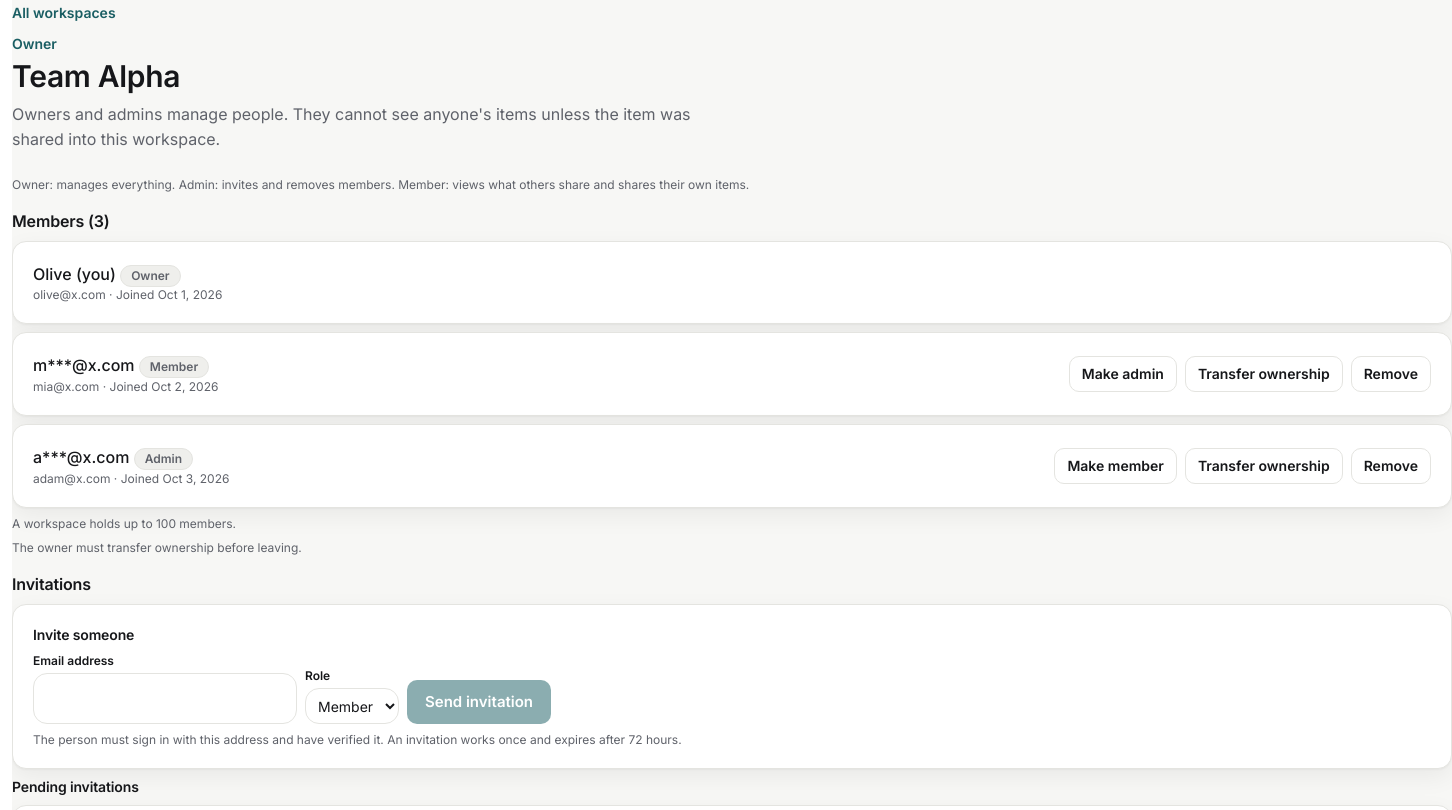
Test: Workspace detail as the owner › invites with the chosen role, reports provider acceptance WITHOUT claiming delivery, and the not-sent case honestly
Type "new@x.com" into the field labelled "Email address" at (165, 698), box [33,673,297,724]
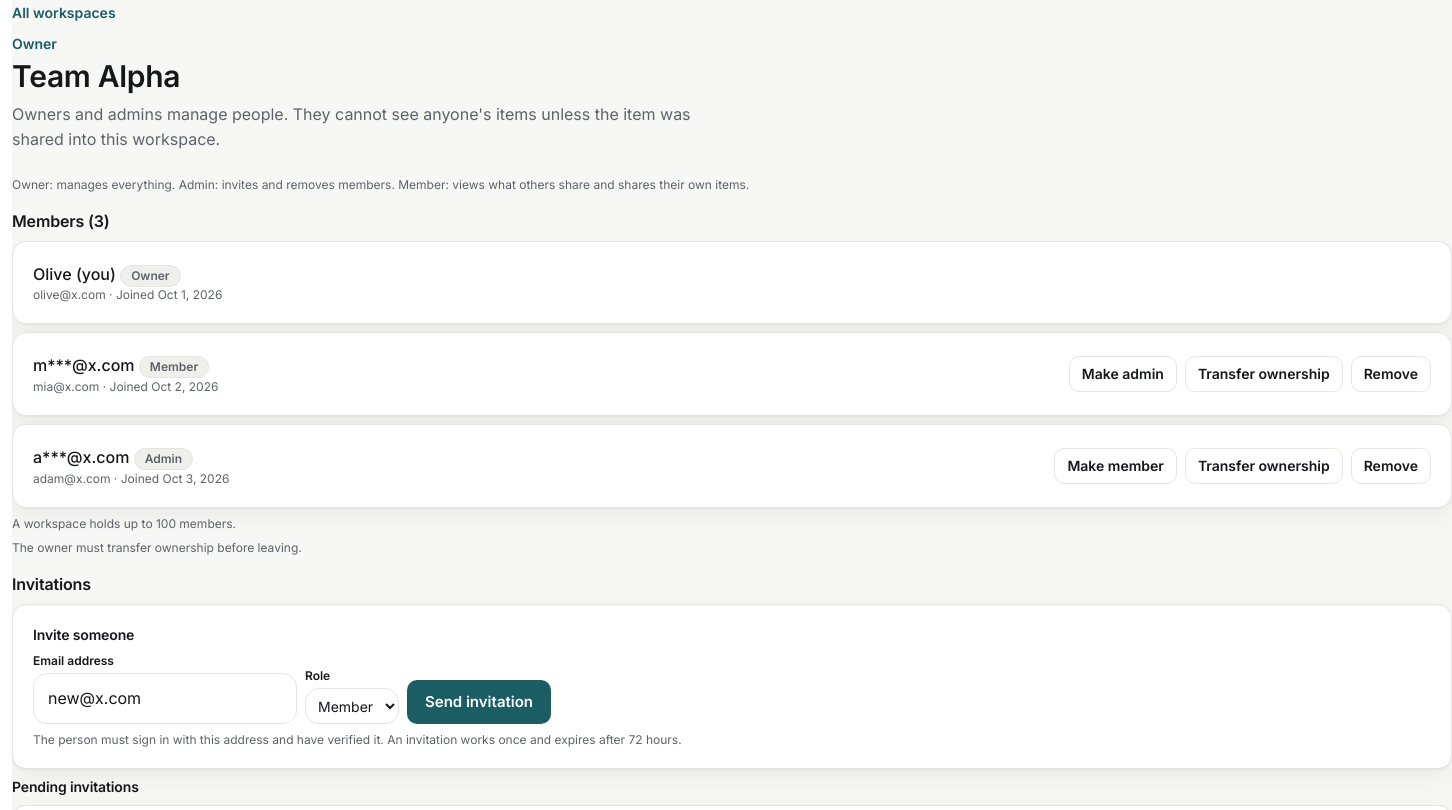
Select "Admin" in the dropdown labelled "Role" at (352, 706), box [305,688,399,724]
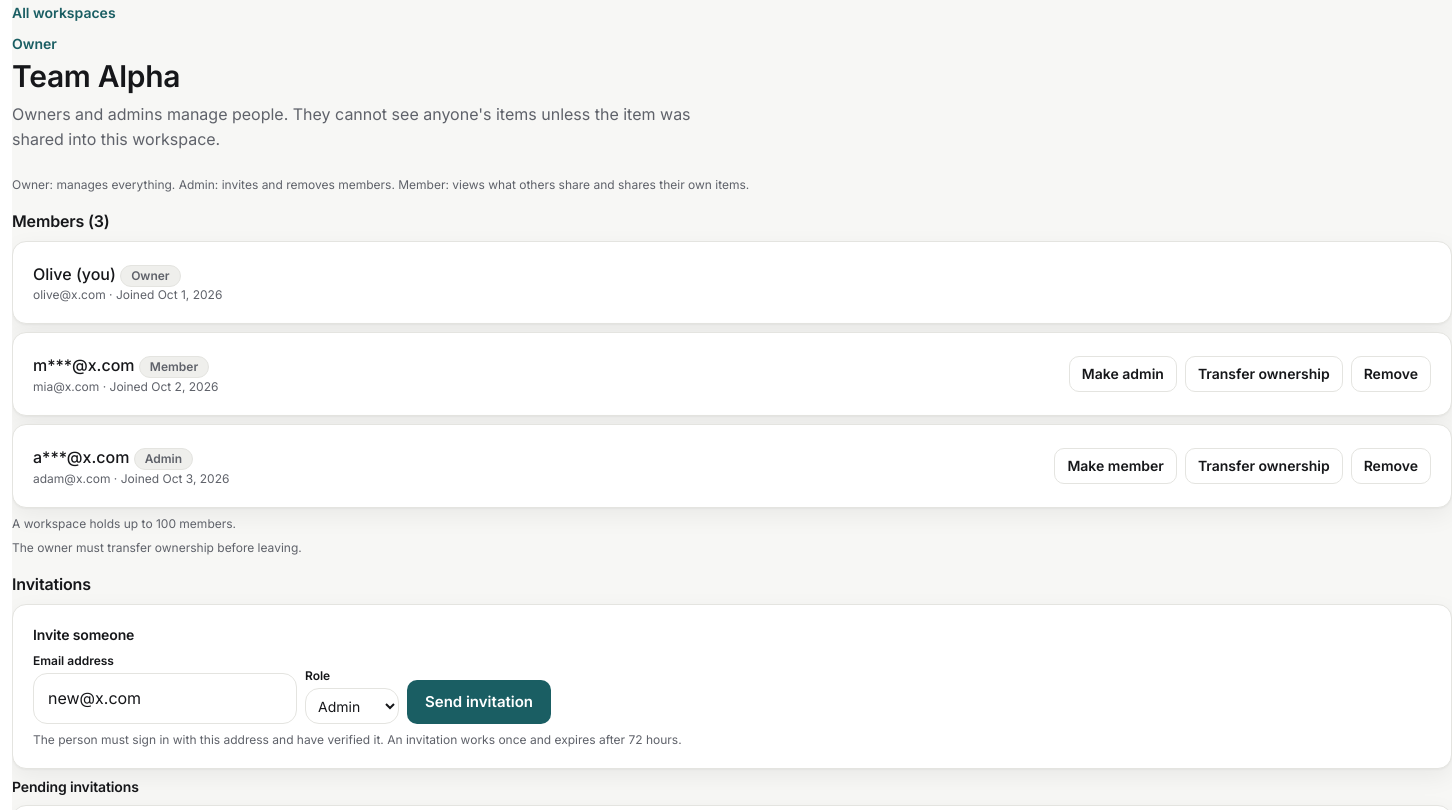
Click the button "Send invitation" at (479, 702), box [407,680,551,724]
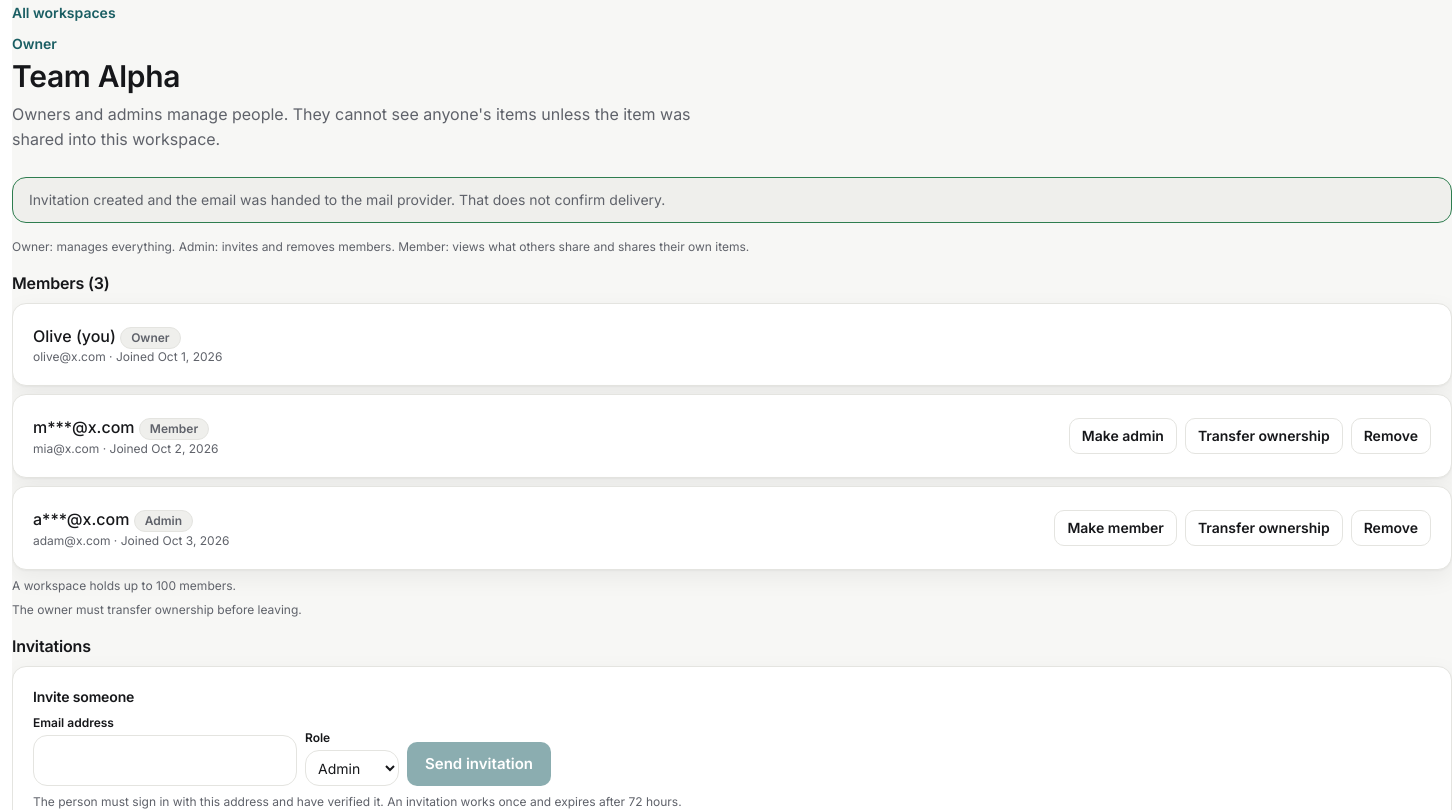
Check: the text "Invitation created and the email was handed to the mail provider. That does not confirm delivery." is shown, box [29,191,665,208]
Type "again@x.com" into the field labelled "Email address" at (165, 760), box [33,735,297,786]
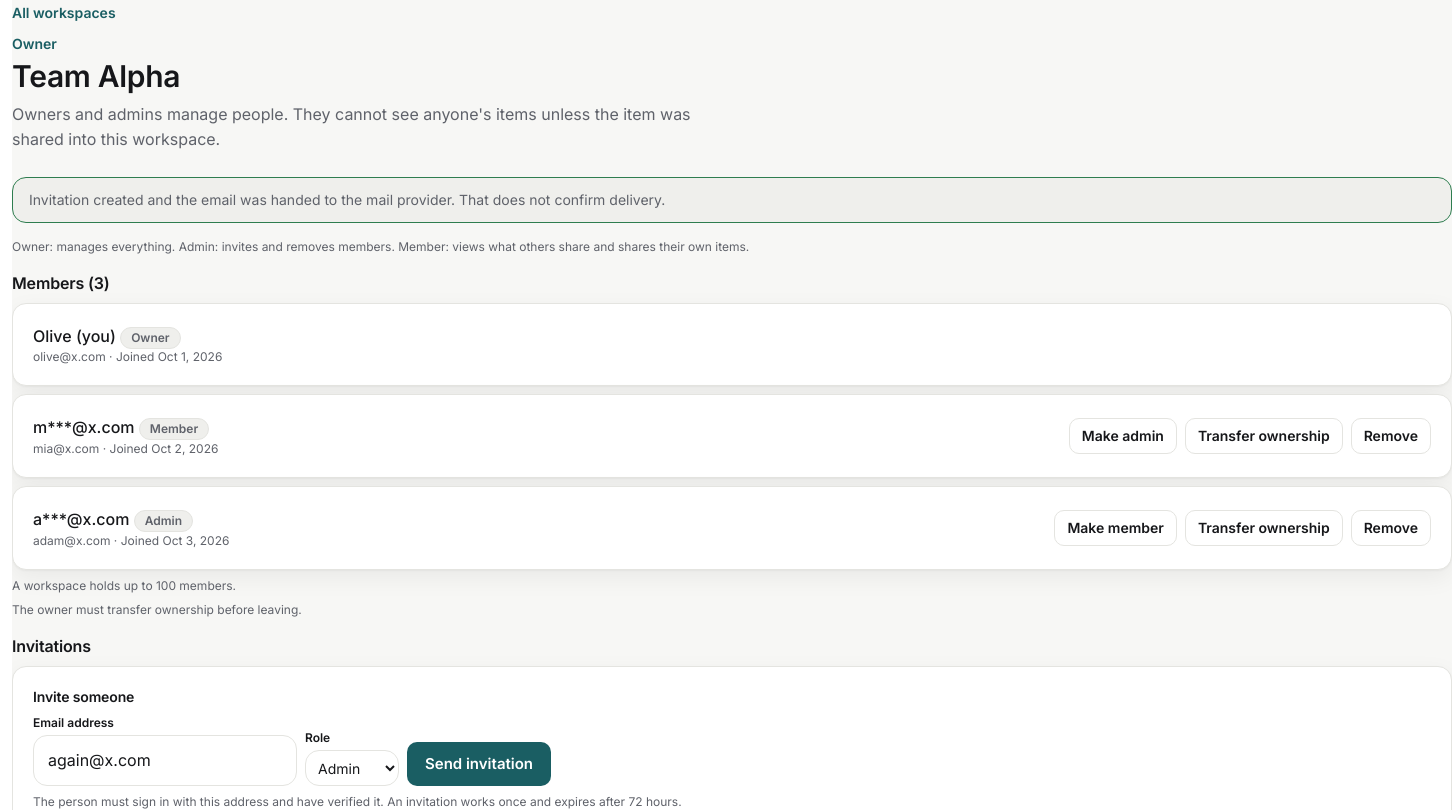
Click the button "Send invitation" at (479, 764), box [407,742,551,786]
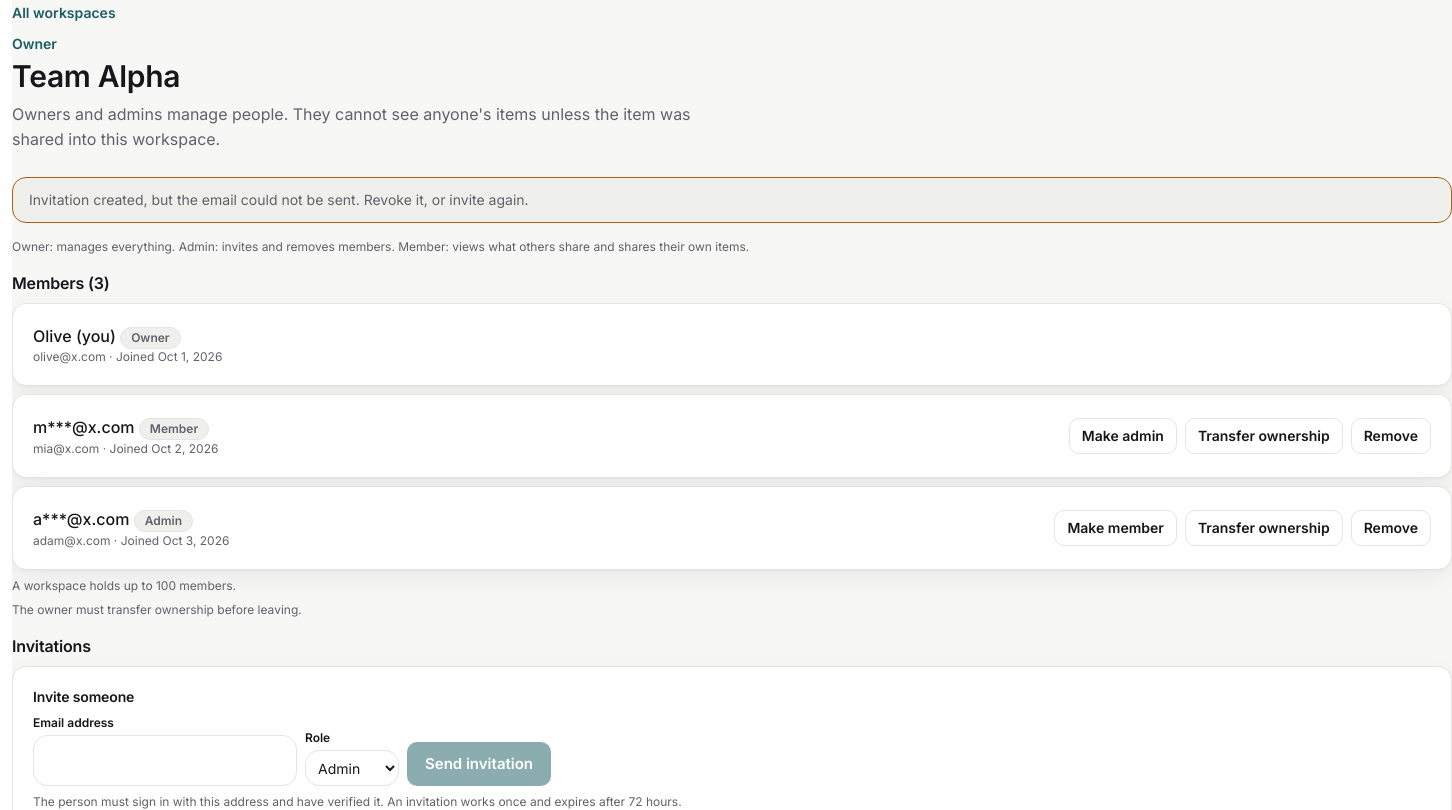
Check: the text "Invitation created, but the email could not be sent. Revoke it, or invite again." is shown, box [29,191,529,208]
